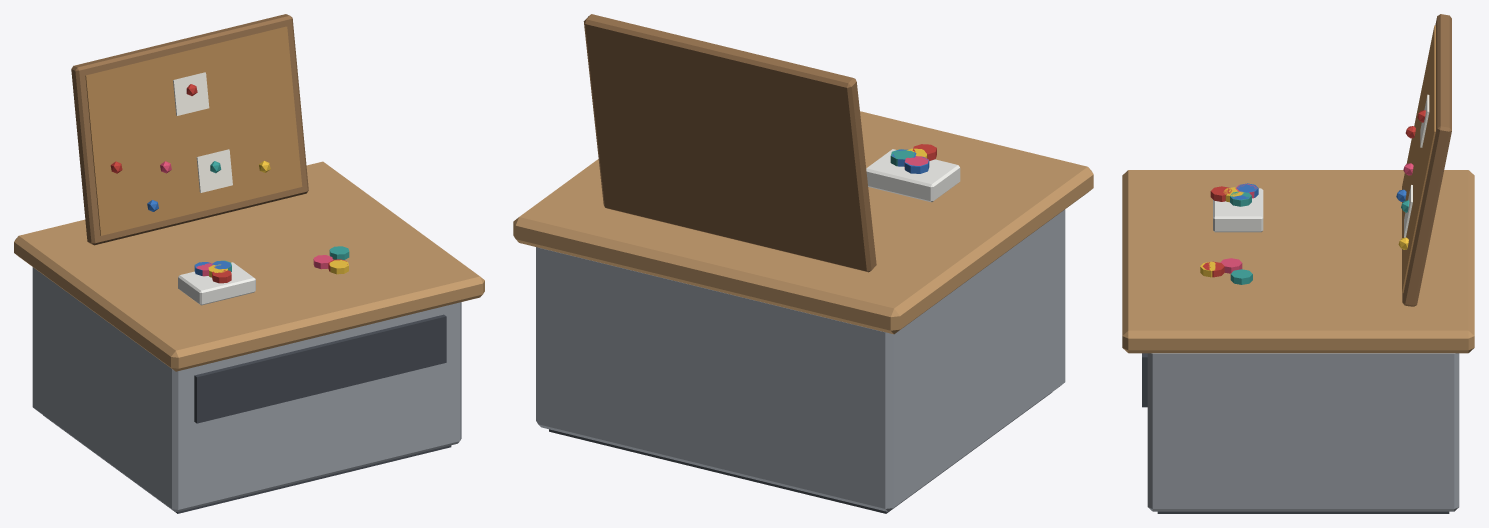
The model's file is thumbtacks_1.glb.
3 views of the same model, side by side, from view 1: azimuth 30°, elevation 25°; view 2: azimuth 150°, elevation 25°; view 3: azimuth 270°, elevation 25° (orthographic). The views are drawn at different scales.
Parts seen in each view (by area): view 1: thumbtacks_1_mesh_Desk, thumbtacks_1_mesh; view 2: thumbtacks_1_mesh_Desk, thumbtacks_1_mesh; view 3: thumbtacks_1_mesh_Desk, thumbtacks_1_mesh.
Part boxes in pixels (left/top/right/bottom): thumbtacks_1_mesh_Desk: left=14, top=161, right=484, bottom=513; thumbtacks_1_mesh: left=71, top=14, right=349, bottom=305; thumbtacks_1_mesh_Desk: left=513, top=111, right=1093, bottom=513; thumbtacks_1_mesh: left=583, top=14, right=960, bottom=272; thumbtacks_1_mesh_Desk: left=1122, top=170, right=1474, bottom=513; thumbtacks_1_mesh: left=1200, top=14, right=1451, bottom=306.
Size of the model in its own units: 0.78 by 0.8151 by 0.7.
